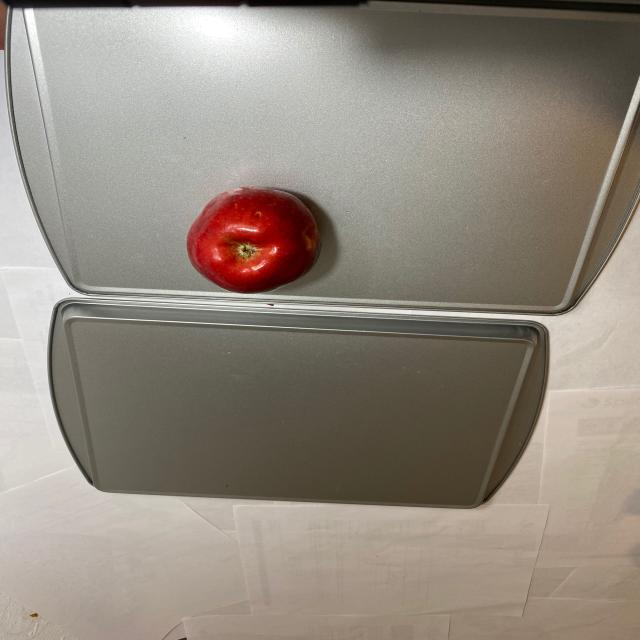apple: (187, 185, 321, 294)
